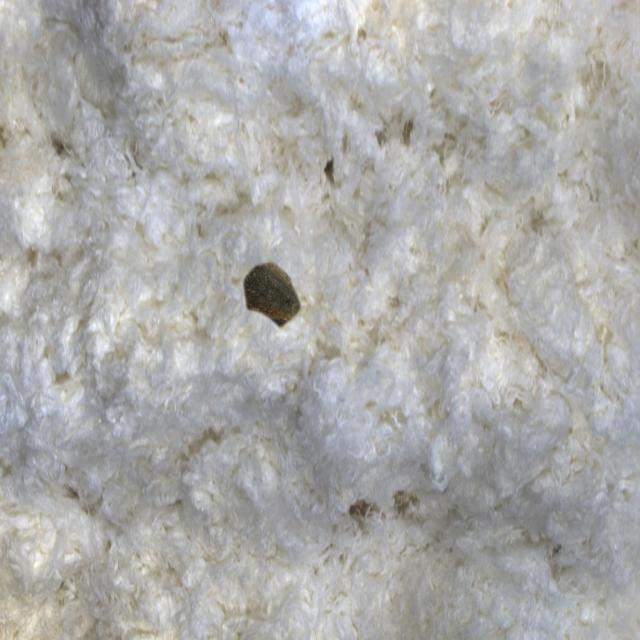dust: (228, 227, 332, 369)
